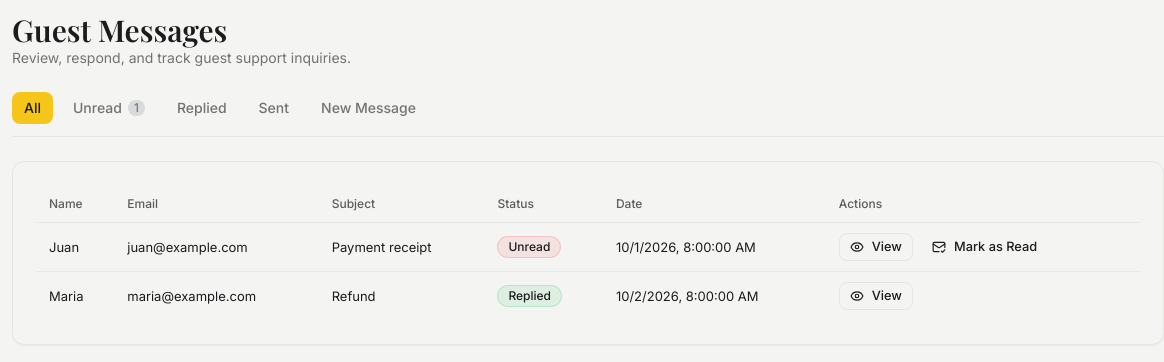
MessagesPage incoming vs sent › splits the inbox tabs from sent messages
Expected: the text "Pedro" is not shown
Click the button "Unread 1": (109, 108) [61,92,157,124]
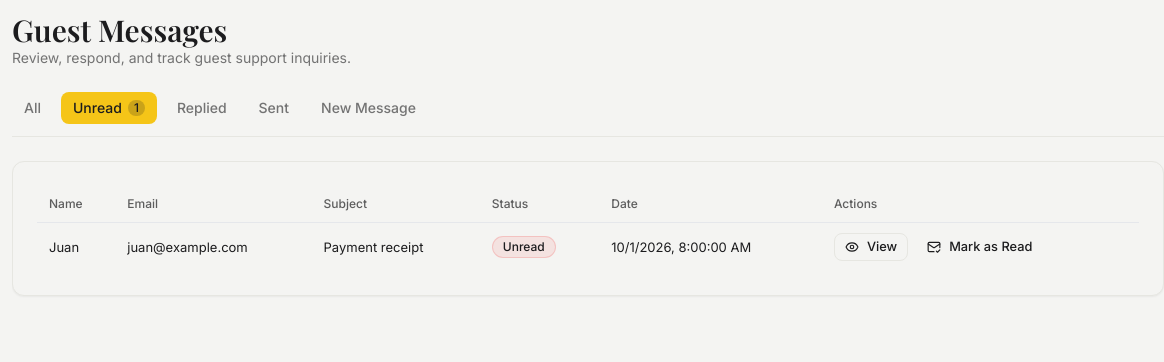
Expected: the text "Juan" is shown, [37,222,115,270]
Expected: the text "Maria" is gone
Click the button "Sent": (274, 108) [247,92,301,124]
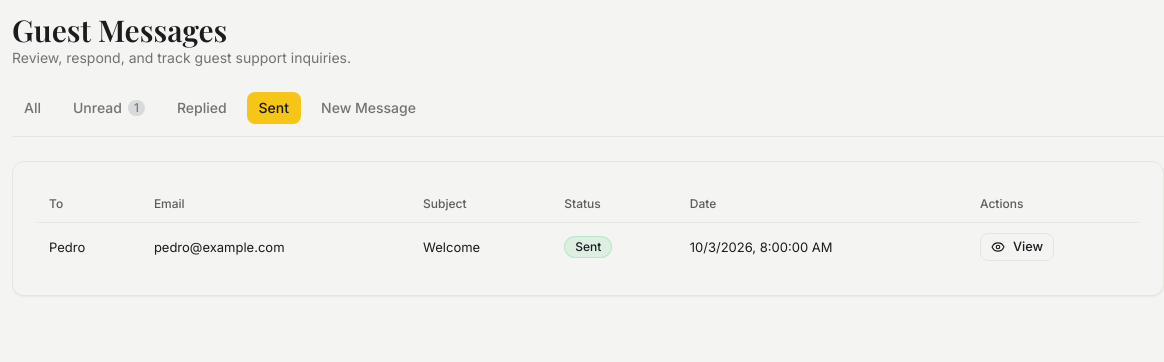
Expected: the text "Pedro" is shown, [37,222,142,270]
Expected: the text "Juan" is gone
